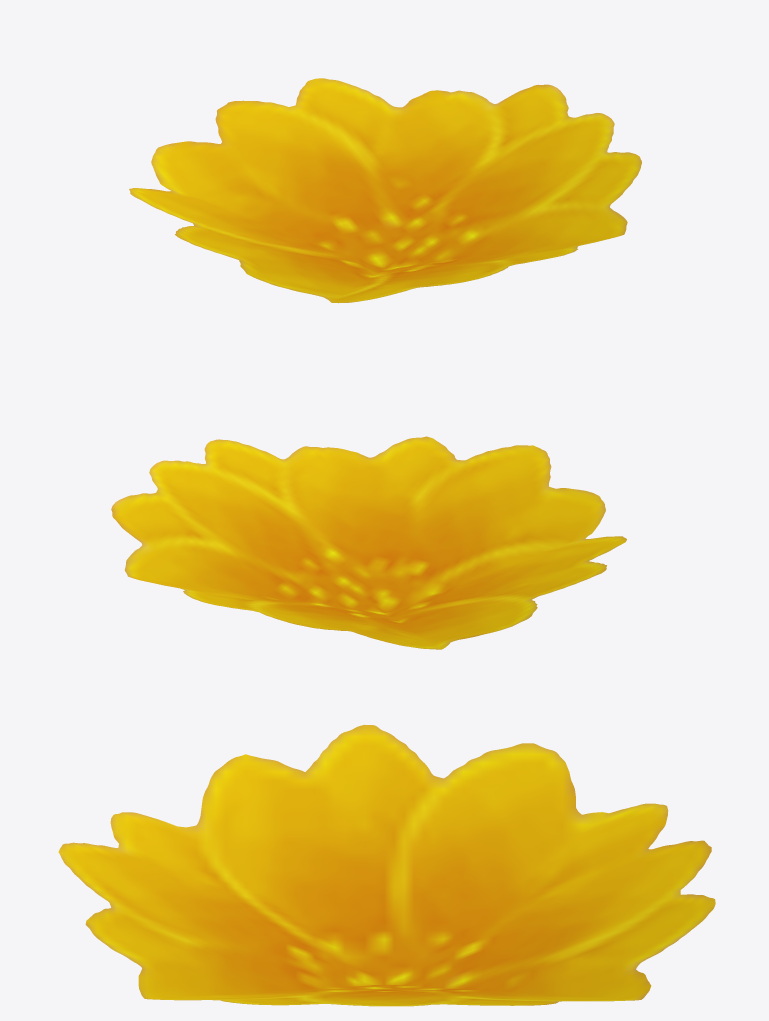
Rendered from Chapter1Scene1Model22.FBX.
3 views of the same model, one above another, from view 1: azimuth 30°, elevation 25°; view 2: azimuth 150°, elevation 25°; view 3: azimuth 270°, elevation 25° (orthographic). The views are drawn at different scales.
Parts seen in each view (by area): view 1: Chapter1Scene1Model22; view 2: Chapter1Scene1Model22; view 3: Chapter1Scene1Model22.
Boxes of the visible parts, x1,y1,x2,y2 form: Chapter1Scene1Model22: (129,78,641,303); Chapter1Scene1Model22: (111,436,626,649); Chapter1Scene1Model22: (58,724,715,1006).
Bounding box in the file's own units: 38.64 × 39.68 × 7.67.
